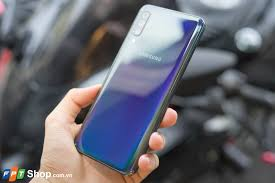samsung: (71, 4, 209, 175)
